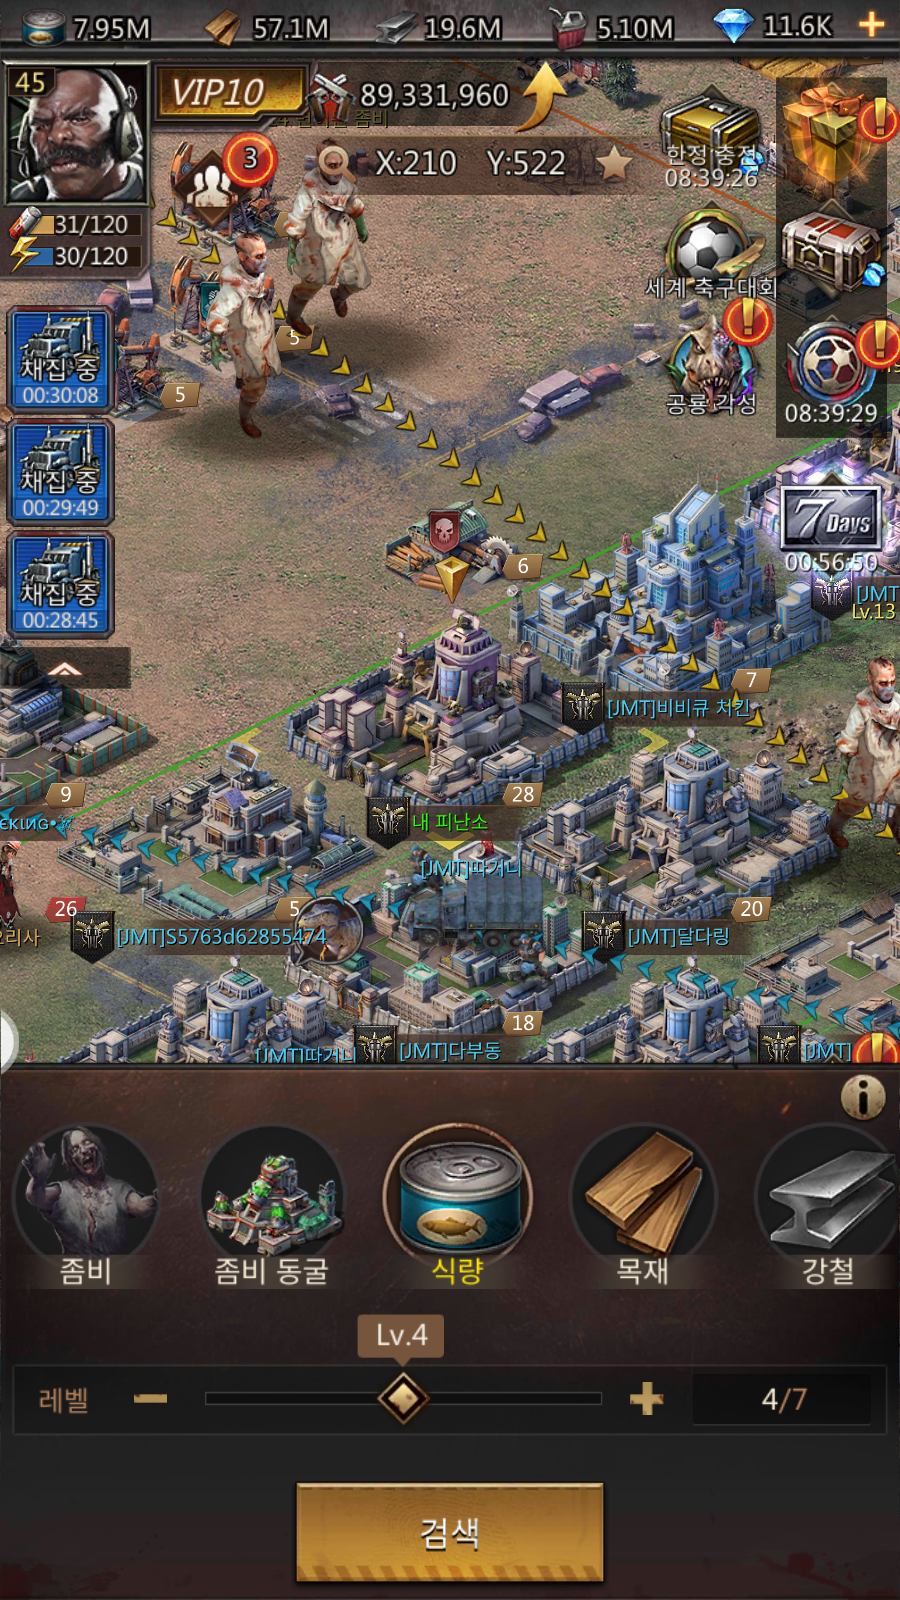rss_food_in_panel: (380, 1120, 538, 1289)
rss_lv4: (353, 1313, 447, 1358)
rss_minus_in_panel: (125, 1378, 176, 1420)
rss_plus_in_panel: (618, 1371, 675, 1422)
rss_search_in_panel: (296, 1485, 605, 1578)
rss_steel_in_panel: (756, 1116, 900, 1300)
rss_wood_in_panel: (569, 1118, 720, 1291)
troops_cnt_3: (160, 125, 287, 247)
